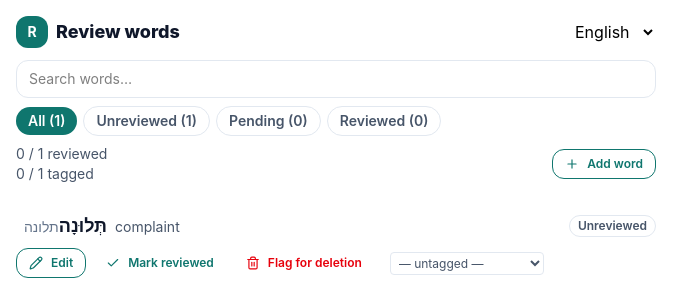
Test case: AdminDictionaryPage › state filter chips narrow the list
Expected: the text "תְּלוּנָה" is shown, [59,215,107,236]
Step 1. Click the button "Reviewed (0)" → (384, 121), box [327,106,441,136]
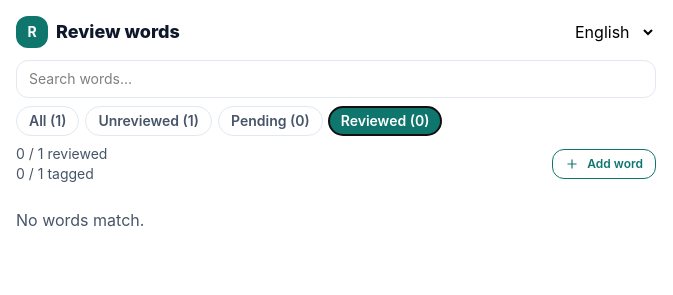
Result: the text "תְּלוּנָה" is gone
Result: the text "No words match." is shown at [16,210,144,230]
